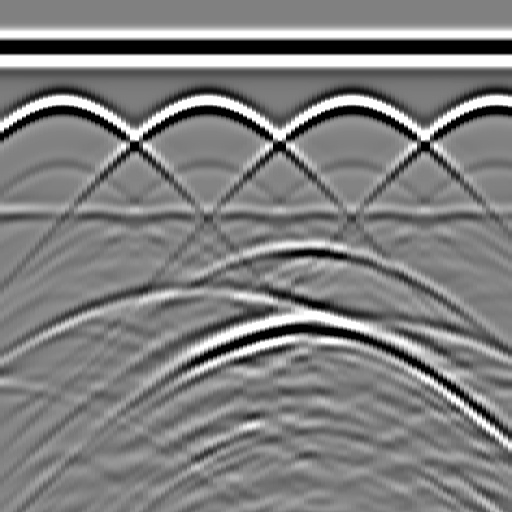grout_surface: (1, 199, 512, 229)
rebar: (41, 84, 81, 124), (185, 84, 225, 124), (329, 84, 369, 124), (473, 84, 512, 124)
rock_surface: (1, 291, 511, 392)
water_void: (274, 222, 334, 262)
